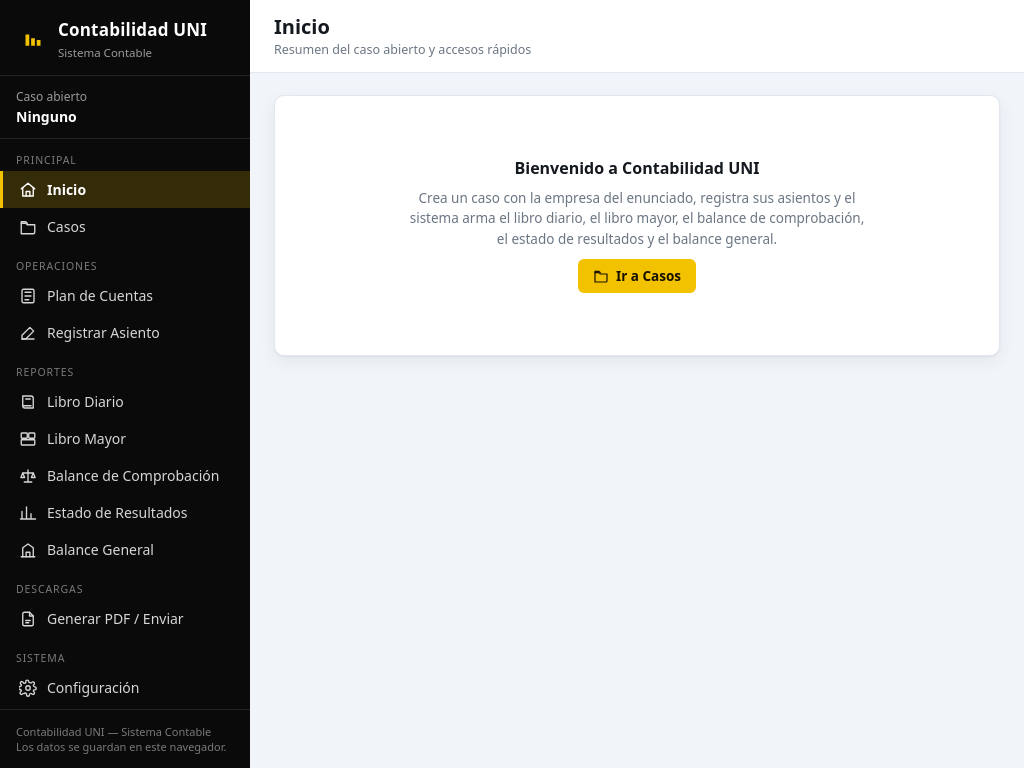
Test: flujo completo de la aplicacion › guarda el caso en el navegador y lo recupera al volver a abrir
Expected: the heading "Bienvenido a Contabilidad UNI" is shown, [514, 158, 760, 178]
Step 1. Click the link "Casos" → {"x": 52, "y": 226}, box [19, 217, 86, 236]
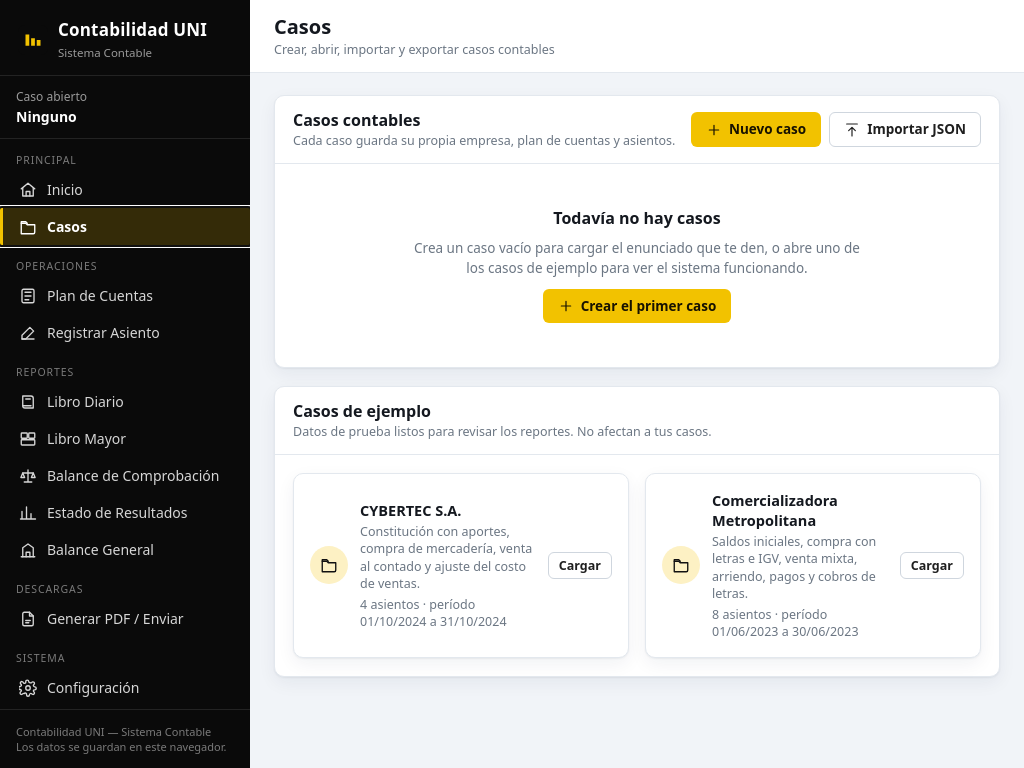
Step 2. Click the button "Cargar" below "CYBERTEC S.A." → {"x": 580, "y": 565}, box [548, 552, 612, 579]
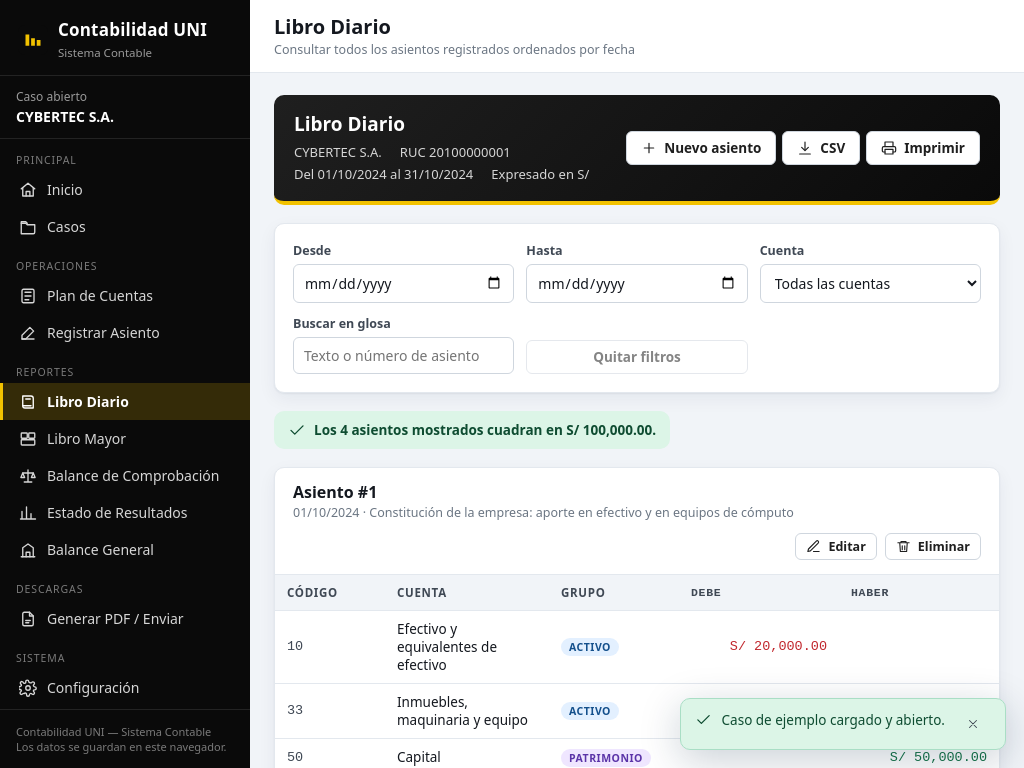
Expected: the 2nd heading "Libro Diario" is shown, [294, 111, 405, 137]
